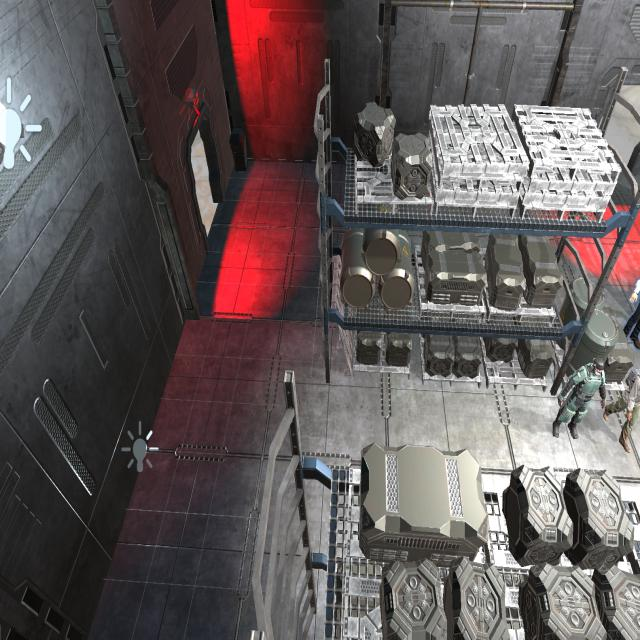thiefs: (603, 367, 640, 459)
